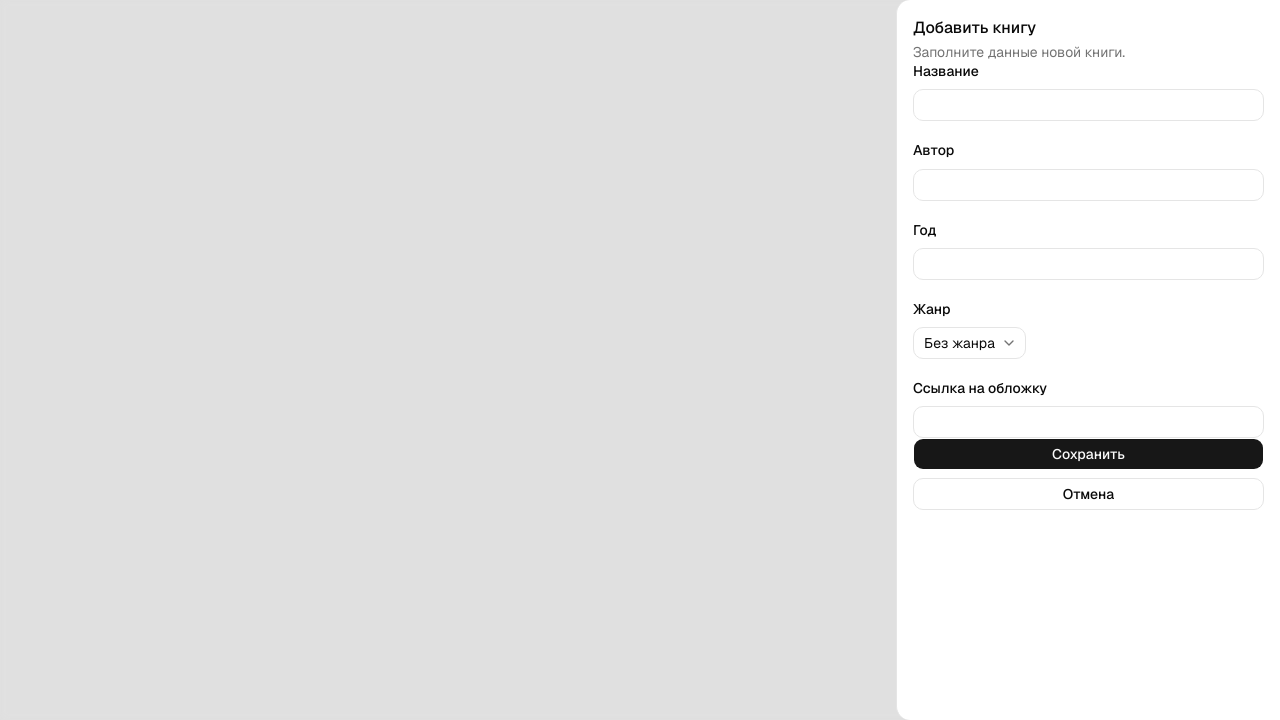
Test case: BookFormDrawer › blocks submission and shows a validation error when title is empty
This screenshot has width=1280, height=720.
Type "Frank Herbert" into the field labelled "Автор" at (1088, 184), box [913,168,1264,200]
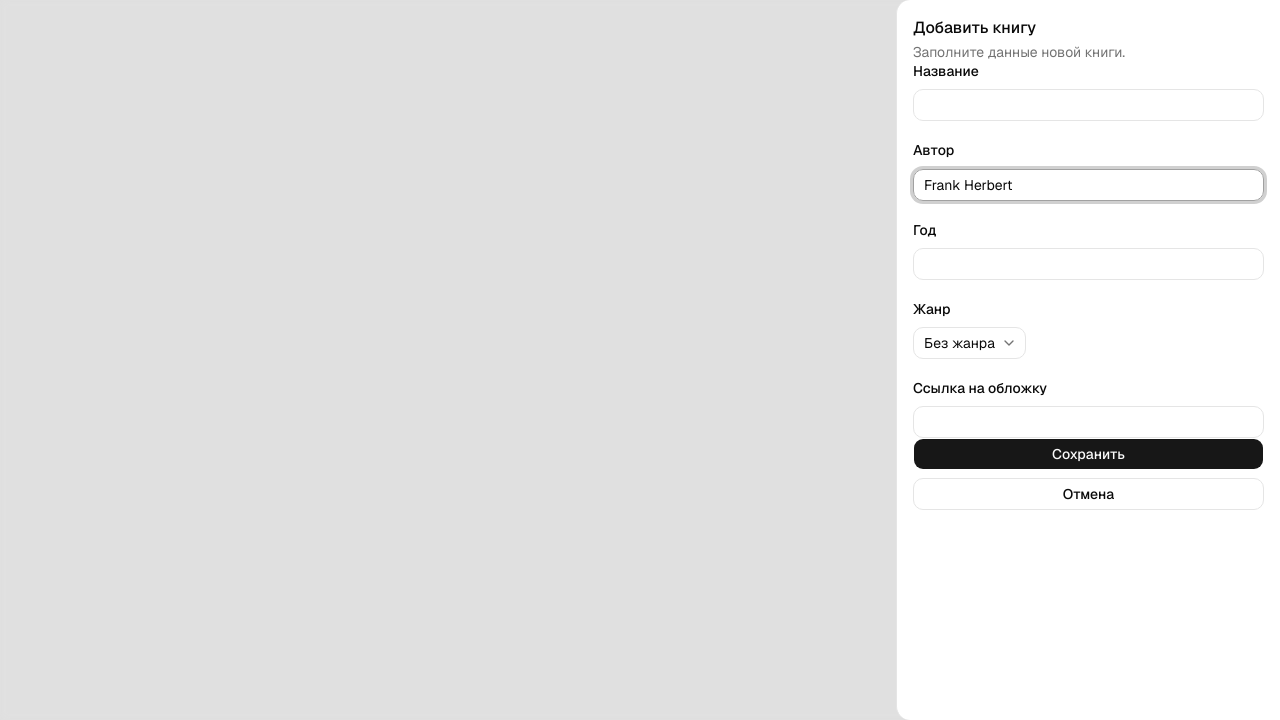
Click the button "Сохранить" at (1088, 454), box [913,438,1264,470]
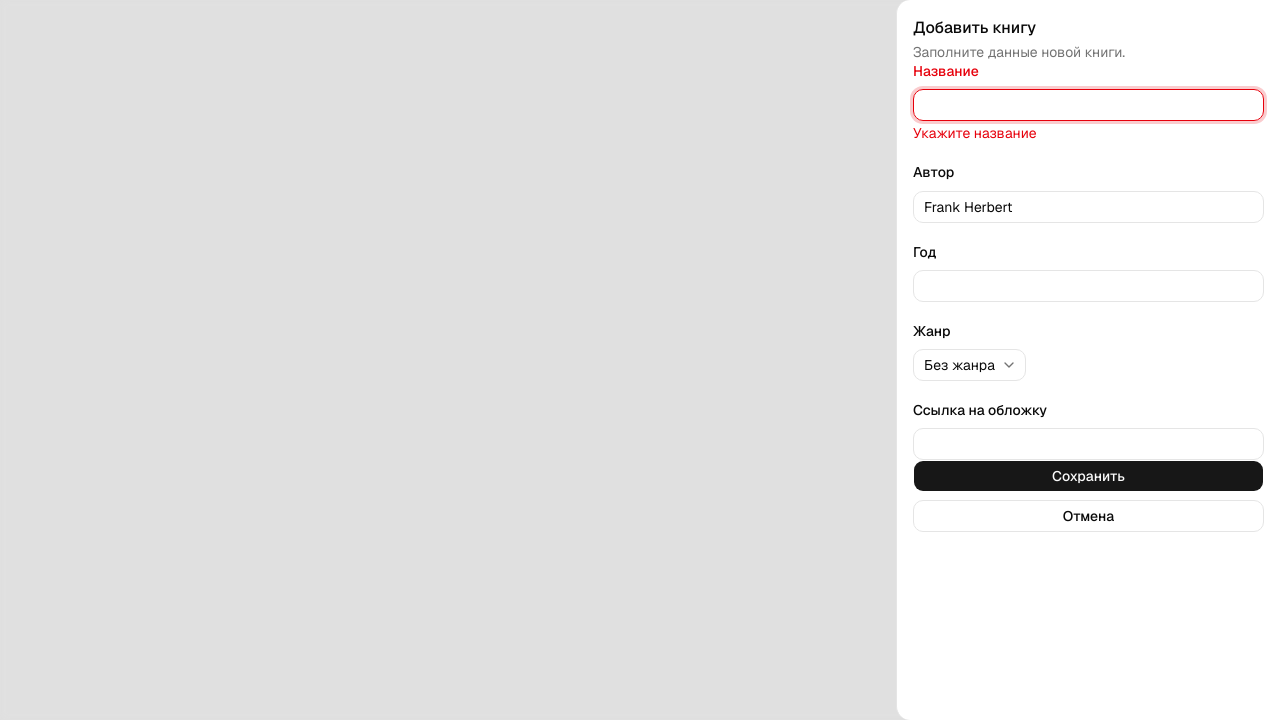
Expected: the text "Укажите название" is shown, [913,124,1037,142]
